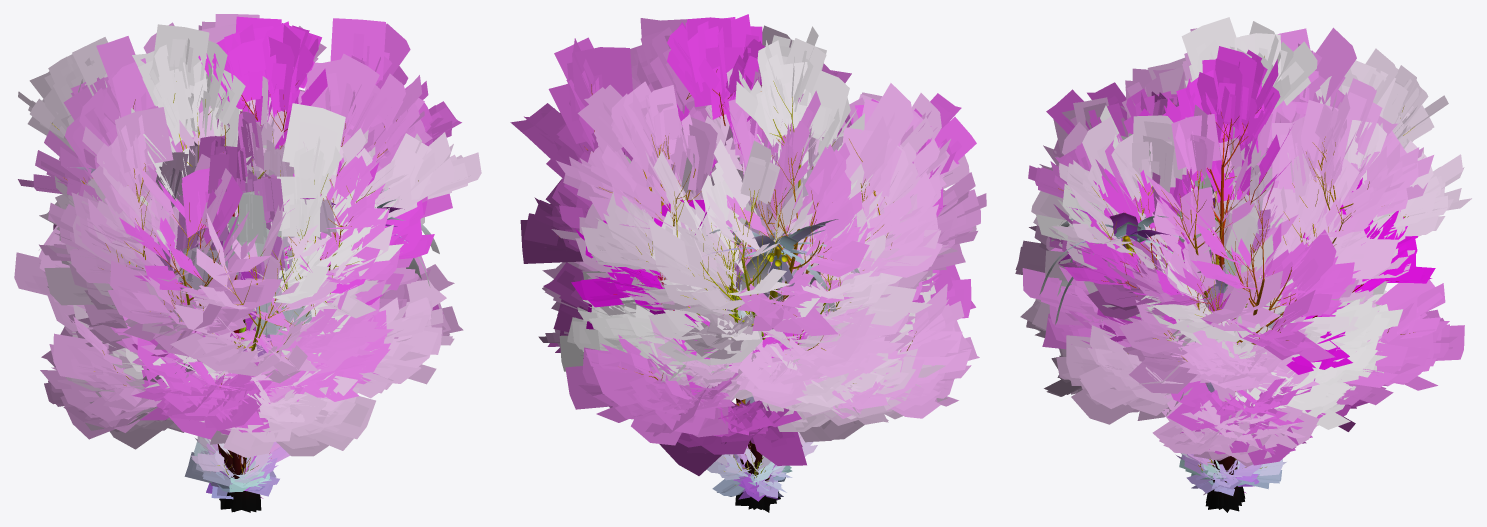
Rendered from plants.glb.
The picture shows the model from 3 angles, left to right: view 1: azimuth 30°, elevation 25°; view 2: azimuth 150°, elevation 25°; view 3: azimuth 270°, elevation 25°; orthographic projection. The views are drawn at different scales.
Parts seen in each view (by area): view 1: broad_2_lod1_leaves, broad_0_lod1_leaves, umbrella_0_lod1_leaves, broad_2_lod0_leaves, umbrella_1_lod1_leaves, broad_1_lod1_leaves, broad_3_lod1_leaves, broad_0_lod0_leaves, ironwood_1_lod1_leaves, broad_1_lod0_leaves, ironwood_1_lod0_leaves, umbrella_0_lod0_leaves (+12 smaller); view 2: broad_0_lod1_leaves, broad_2_lod1_leaves, umbrella_0_lod1_leaves, umbrella_1_lod1_leaves, broad_0_lod0_leaves, broad_2_lod0_leaves, broad_1_lod1_leaves, broad_3_lod1_leaves, umbrella_0_lod0_leaves, broad_3_lod0_leaves, umbrella_1_lod0_leaves, broad_1_lod0_leaves (+11 smaller); view 3: broad_0_lod1_leaves, umbrella_0_lod1_leaves, broad_2_lod1_leaves, broad_1_lod1_leaves, broad_0_lod0_leaves, broad_3_lod1_leaves, broad_2_lod0_leaves, umbrella_1_lod1_leaves, broad_1_lod0_leaves, broad_3_lod0_leaves, umbrella_0_lod0_leaves, broad_0_lod0_bark (+11 smaller).
Boxes of the visible parts, box(x1,y1,x2,y2) form: broad_2_lod1_leaves: box(18, 24, 481, 356); broad_0_lod1_leaves: box(18, 14, 461, 382); umbrella_0_lod1_leaves: box(14, 226, 454, 449); broad_2_lod0_leaves: box(30, 38, 470, 353); umbrella_1_lod1_leaves: box(40, 264, 463, 457); broad_1_lod1_leaves: box(39, 101, 430, 362); broad_3_lod1_leaves: box(68, 76, 434, 383); broad_0_lod0_leaves: box(30, 25, 457, 375); ironwood_1_lod1_leaves: box(158, 100, 321, 356); broad_1_lod0_leaves: box(44, 100, 418, 338); ironwood_1_lod0_leaves: box(151, 99, 336, 353); umbrella_0_lod0_leaves: box(57, 266, 442, 434); broad_0_lod1_leaves: box(510, 14, 957, 336); broad_2_lod1_leaves: box(581, 18, 986, 359); umbrella_0_lod1_leaves: box(543, 261, 975, 445); umbrella_1_lod1_leaves: box(538, 262, 979, 475); broad_0_lod0_leaves: box(523, 24, 932, 330); broad_2_lod0_leaves: box(591, 33, 969, 349); broad_1_lod1_leaves: box(551, 35, 976, 378); broad_3_lod1_leaves: box(571, 68, 976, 365); umbrella_0_lod0_leaves: box(559, 266, 963, 436); broad_3_lod0_leaves: box(580, 105, 952, 365); umbrella_1_lod0_leaves: box(545, 304, 955, 447); broad_1_lod0_leaves: box(602, 68, 961, 365); broad_0_lod1_leaves: box(1028, 27, 1433, 361); umbrella_0_lod1_leaves: box(1022, 247, 1464, 465); broad_2_lod1_leaves: box(1031, 17, 1471, 350); broad_1_lod1_leaves: box(1036, 82, 1415, 393); broad_0_lod0_leaves: box(1034, 49, 1418, 360); broad_3_lod1_leaves: box(1015, 94, 1435, 374); broad_2_lod0_leaves: box(1059, 33, 1453, 342); umbrella_1_lod1_leaves: box(1020, 294, 1382, 466); broad_1_lod0_leaves: box(1053, 96, 1370, 381); broad_3_lod0_leaves: box(1015, 129, 1431, 361); umbrella_0_lod0_leaves: box(1049, 278, 1452, 450); broad_0_lod0_bark: box(1058, 107, 1369, 512).
Bounding box in the file's own units: 17.75 × 19.24 × 17.09.
